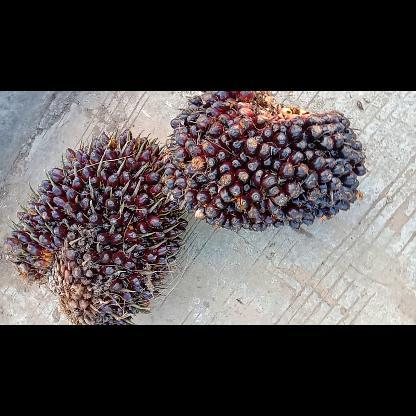TBS mentah: (6, 129, 186, 324), (161, 91, 367, 230)
